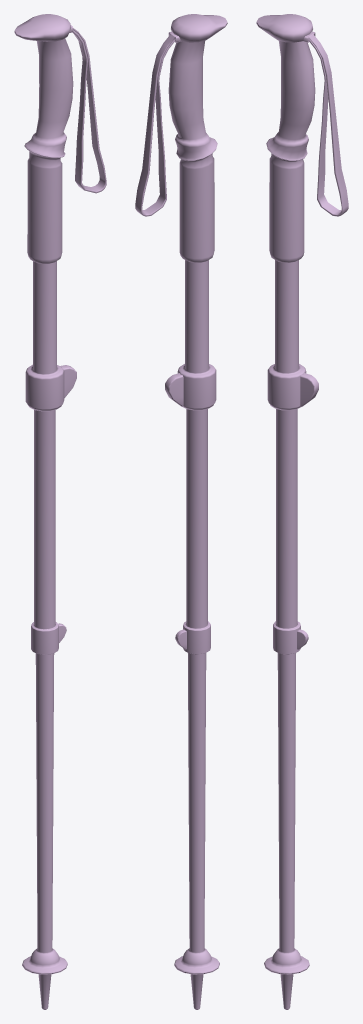
File: Hiking_pole.fbx
The picture shows the model from 3 angles, left to right: view 1: azimuth 30°, elevation 25°; view 2: azimuth 210°, elevation 25°; view 3: azimuth 330°, elevation 25°; orthographic projection.
Parts seen in each view (by area): view 1: polySurface3; view 2: polySurface3; view 3: polySurface3.
Boxes of the visible parts, bbox=[...] form: polySurface3: bbox=[14, 14, 106, 1009]; polySurface3: bbox=[135, 14, 227, 1009]; polySurface3: bbox=[256, 14, 348, 1009].
Bounding box in the file's own units: 0.0946 × 1.02 × 0.0424.
